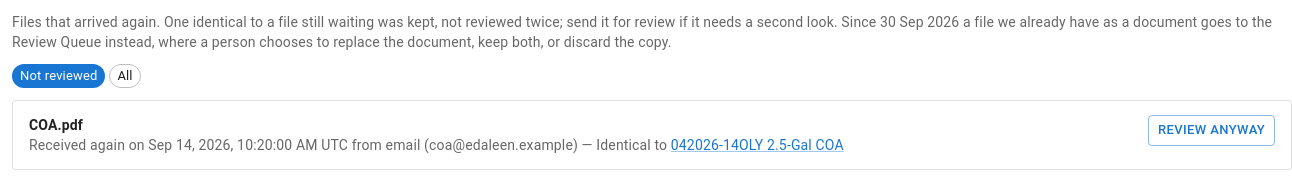
Scenario: ReceivedAgainList › sends a file for review anyway in one click and stops offering it
This screenshot has width=1292, height=187.
Expected: the element with test id "received-again-dup_1" shows "042026-14OLY 2.5-Gal COA", [671,137,844,153]
Click the button "Review anyway" at [1212, 130], box [1148,115,1275,146]
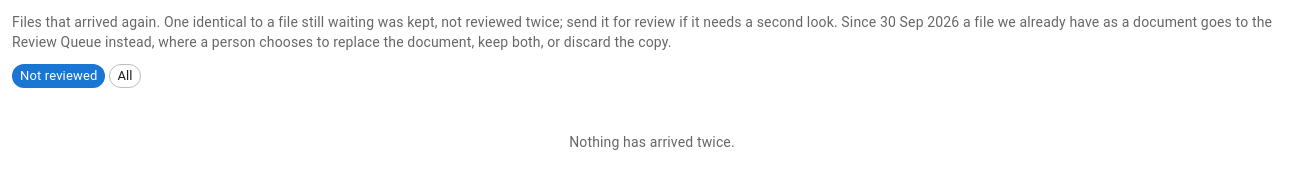
Result: the element with test id "received-again-dup_1" is gone
